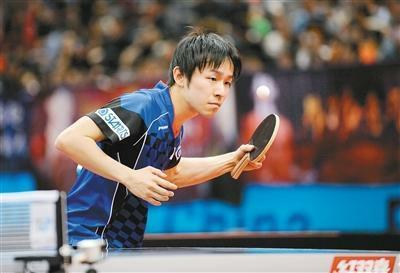ball: (253, 83, 270, 99)
